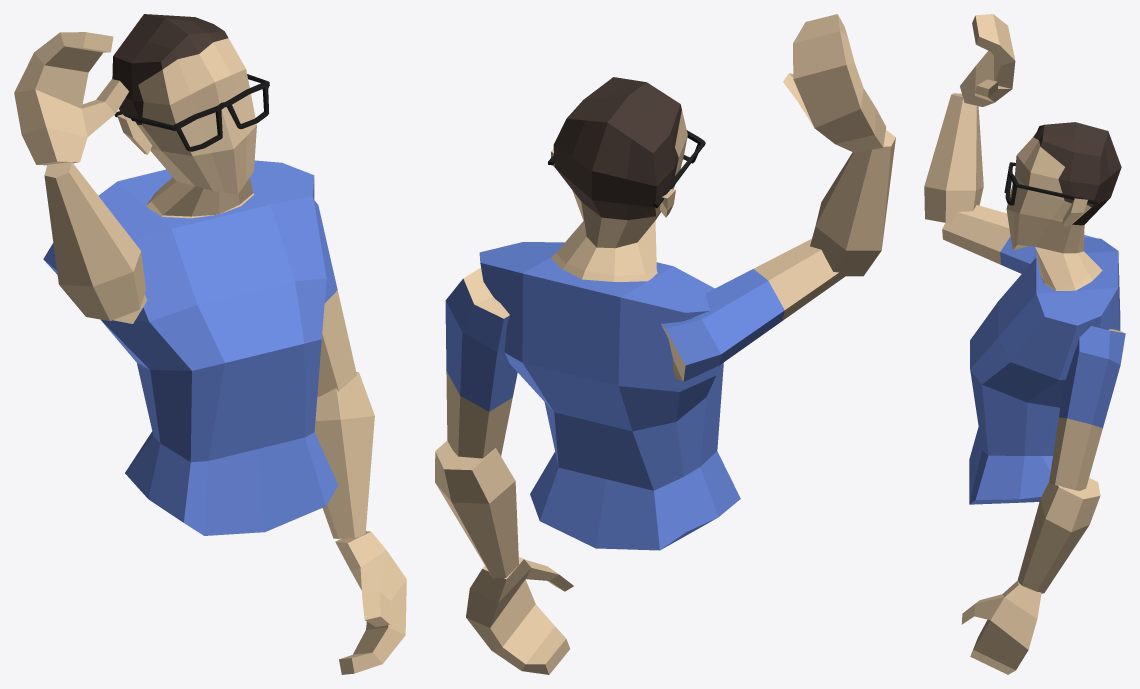
The model's file is bust_posed_welcome.glb.
3 views of the same model, side by side, from view 1: azimuth 30°, elevation 25°; view 2: azimuth 150°, elevation 25°; view 3: azimuth 270°, elevation 25° (orthographic). The views are drawn at different scales.
Parts seen in each view (by area): view 1: Mathias; view 2: Mathias; view 3: Mathias.
Part boxes in pixels (left/top/right/bottom): Mathias: left=14, top=14, right=406, bottom=674; Mathias: left=435, top=14, right=895, bottom=674; Mathias: left=924, top=14, right=1125, bottom=674.
Bounding box in the file's own units: 0.7831 × 1.37 × 0.4545.
